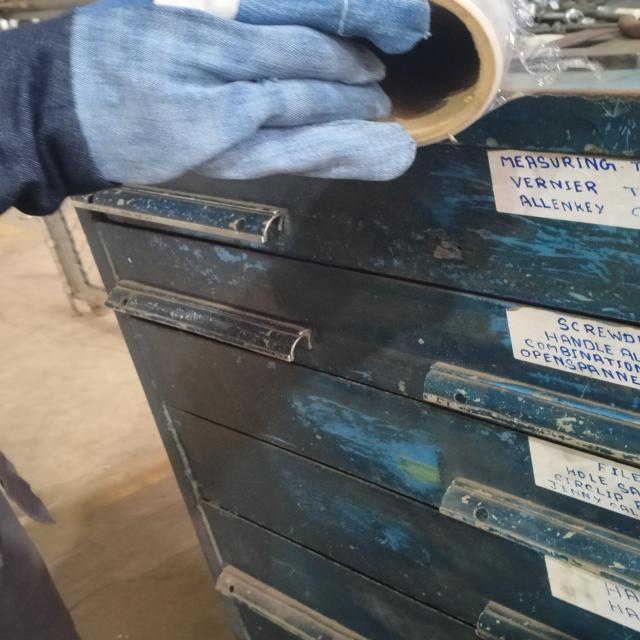Gloves-Detection: (0, 0, 440, 208)
